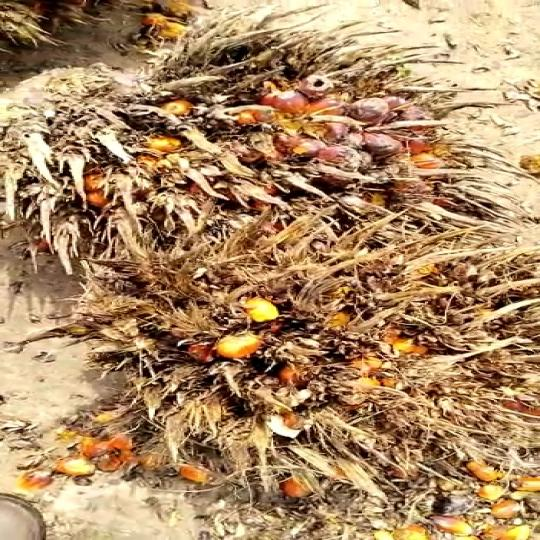terlalu masak: (98, 214, 540, 496), (0, 15, 436, 271)
